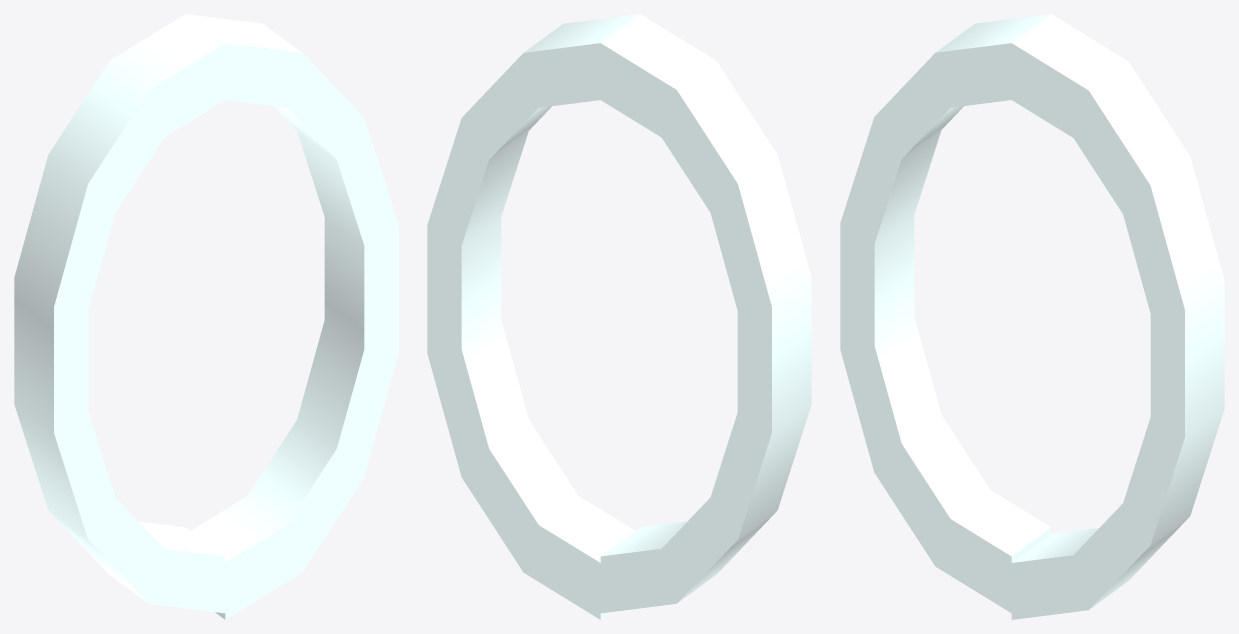
The picture shows the model from 3 angles, left to right: view 1: azimuth 30°, elevation 25°; view 2: azimuth 150°, elevation 25°; view 3: azimuth 330°, elevation 25°; orthographic projection.
Parts seen in each view (by area): view 1: wall_1_1_205_211.001; view 2: wall_1_1_205_211.001; view 3: wall_1_1_205_211.001.
Part boxes in pixels (x1,y1,x2,y2): wall_1_1_205_211.001: [14, 14, 398, 619]; wall_1_1_205_211.001: [427, 14, 811, 619]; wall_1_1_205_211.001: [840, 14, 1224, 619].
Bounding box in the file's own units: 3.52 × 5.63 × 0.7034.
